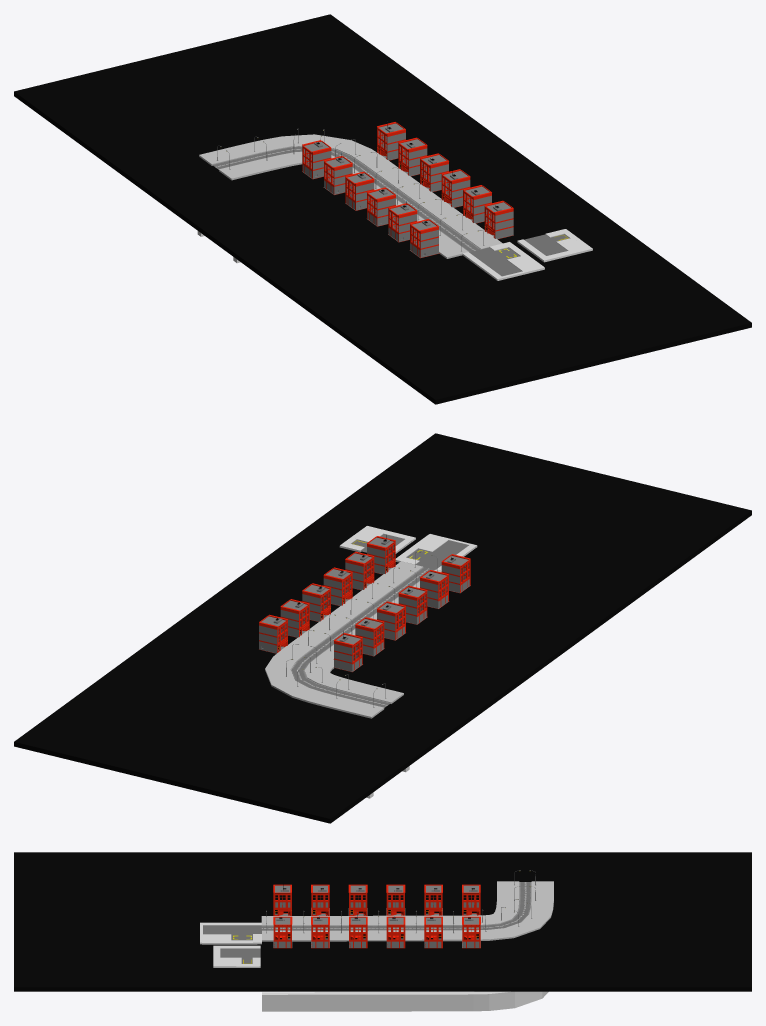
File: road map.fbx
The picture shows the model from 3 angles, top to bottom: view 1: azimuth 30°, elevation 25°; view 2: azimuth 150°, elevation 25°; view 3: azimuth 270°, elevation 25°; orthographic projection. The views are drawn at different scales.
Parts seen in each view (by area): view 1: Cube, Plane.015, Plane.010, Cube.004, Plane.001, Cube.003, Plane.016; view 2: Cube, Plane.015, Plane.010, Cube.004, Plane.001, Cube.003, Plane.016; view 3: Cube, Cube.005, Plane.010, Plane.015, Cube.004, Cube.003, Plane.001, Plane.016, Plane.011, Cube.014, Cube.008, Cube.015.
Part boxes in pixels (x1,y1,x2,y2): Cube: [14, 14, 751, 404]; Plane.015: [302, 140, 440, 258]; Plane.010: [377, 121, 513, 239]; Cube.004: [199, 134, 502, 249]; Plane.001: [212, 146, 480, 252]; Cube.003: [219, 151, 468, 258]; Plane.016: [465, 247, 521, 277]; Cube: [14, 433, 751, 823]; Plane.015: [333, 554, 470, 672]; Plane.010: [259, 535, 395, 653]; Cube.004: [265, 561, 422, 718]; Plane.001: [290, 567, 434, 707]; Cube.003: [304, 569, 441, 703]; Plane.016: [406, 540, 472, 569]; Cube: [14, 852, 751, 991]; Cube.005: [262, 991, 548, 1011]; Plane.010: [273, 912, 480, 948]; Plane.015: [273, 884, 480, 915]; Cube.004: [262, 881, 553, 941]; Cube.003: [261, 881, 519, 925]; Plane.001: [261, 882, 531, 930]; Plane.016: [203, 925, 261, 940]; Plane.011: [220, 948, 260, 963]; Cube.014: [202, 934, 231, 944]; Cube.008: [213, 945, 260, 967]; Cube.015: [200, 922, 261, 944].
Size of the model in its own units: 10310 by 3568 by 23786.
